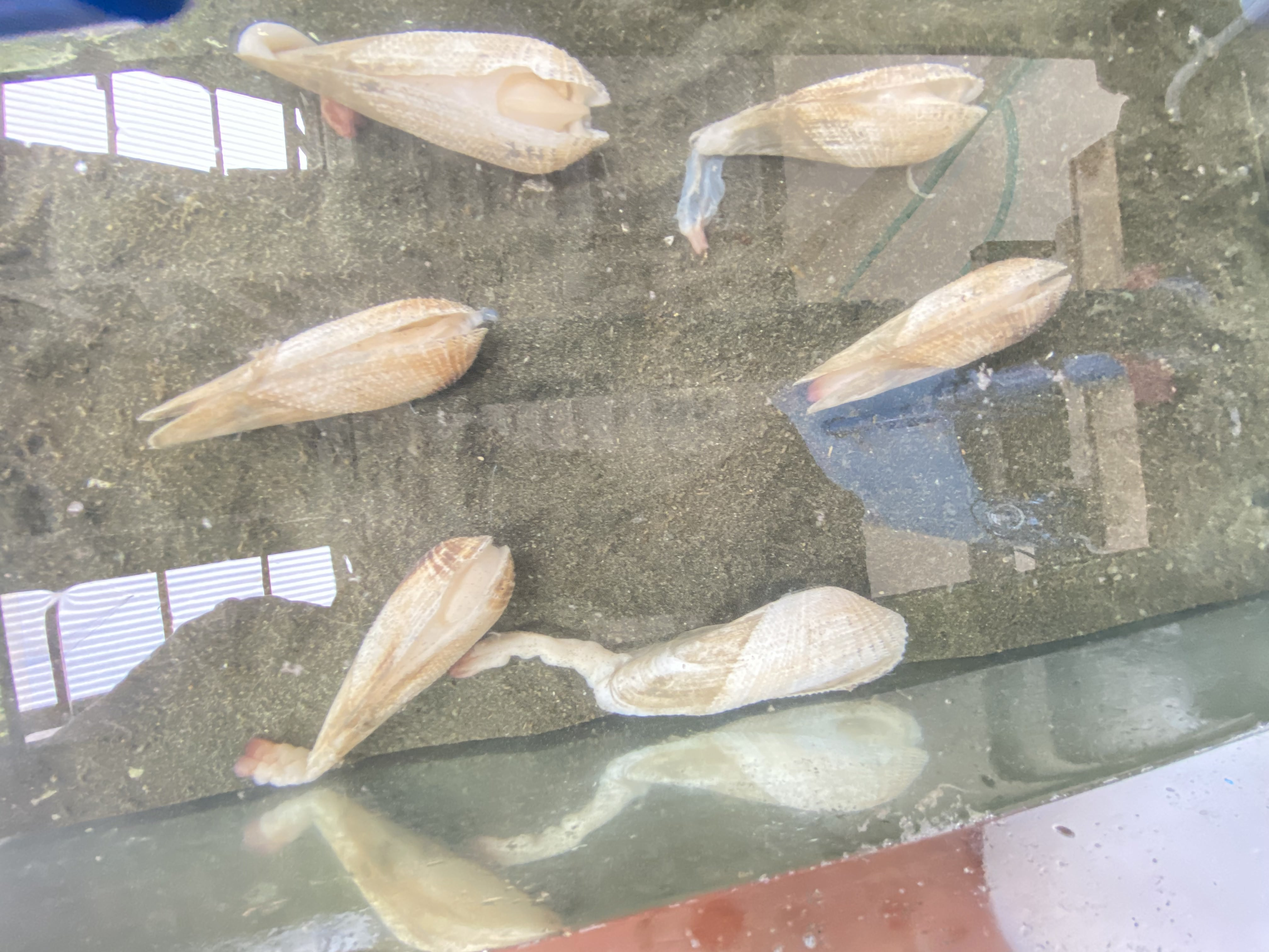At risk: (235, 536, 905, 785), (677, 63, 985, 253), (237, 23, 609, 174), (140, 298, 487, 447), (799, 258, 1071, 412)
